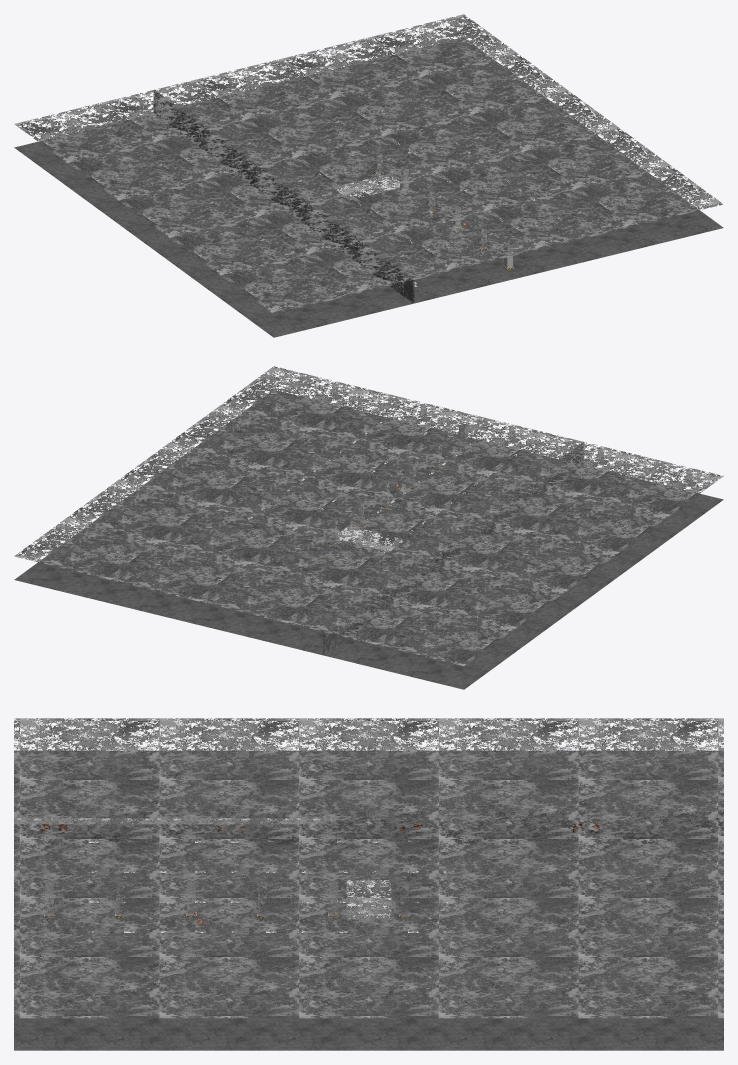
File: garage_blendswap.fbx
3 renders of one model, top to bottom at view 1: azimuth 30°, elevation 25°; view 2: azimuth 150°, elevation 25°; view 3: azimuth 270°, elevation 25°, orthographic. The views are drawn at different scales.
Parts seen in each view (by area): view 1: Floor.001, Floor.000, Cube, Cube.001, Plane.004; view 2: Floor.001, Floor.000, Cube, Cube.001, Plane.004; view 3: Floor.001, Floor.000, Cube, Plane, Cube.001, Plane.004.
Part boxes in pixels (<box>): Floor.001: <box>14,14,722,313</box>; Floor.000: <box>14,38,723,337</box>; Cube: <box>153,89,414,303</box>; Cube.001: <box>373,149,513,269</box>; Plane.004: <box>333,175,399,200</box>; Floor.001: <box>14,366,723,665</box>; Floor.000: <box>14,391,723,689</box>; Cube: <box>323,442,584,655</box>; Cube.001: <box>328,423,467,545</box>; Plane.004: <box>338,527,403,552</box>; Floor.001: <box>14,718,723,1018</box>; Floor.000: <box>14,750,723,1050</box>; Cube: <box>14,811,723,844</box>; Plane: <box>14,818,332,824</box>; Cube.001: <box>44,881,409,917</box>; Plane.004: <box>346,880,391,919</box>.
Bounding box in the file's own units: 8000 × 422 × 8000.
